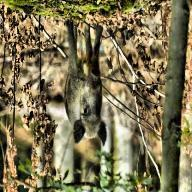boar: (52, 20, 122, 157)
